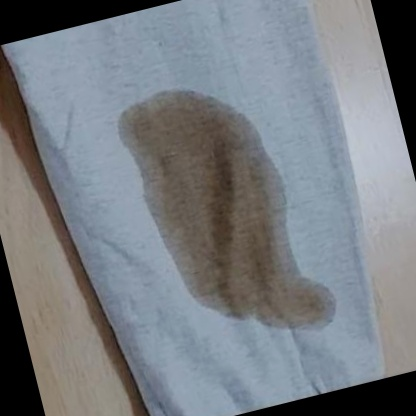coffee: (130, 83, 306, 318)
